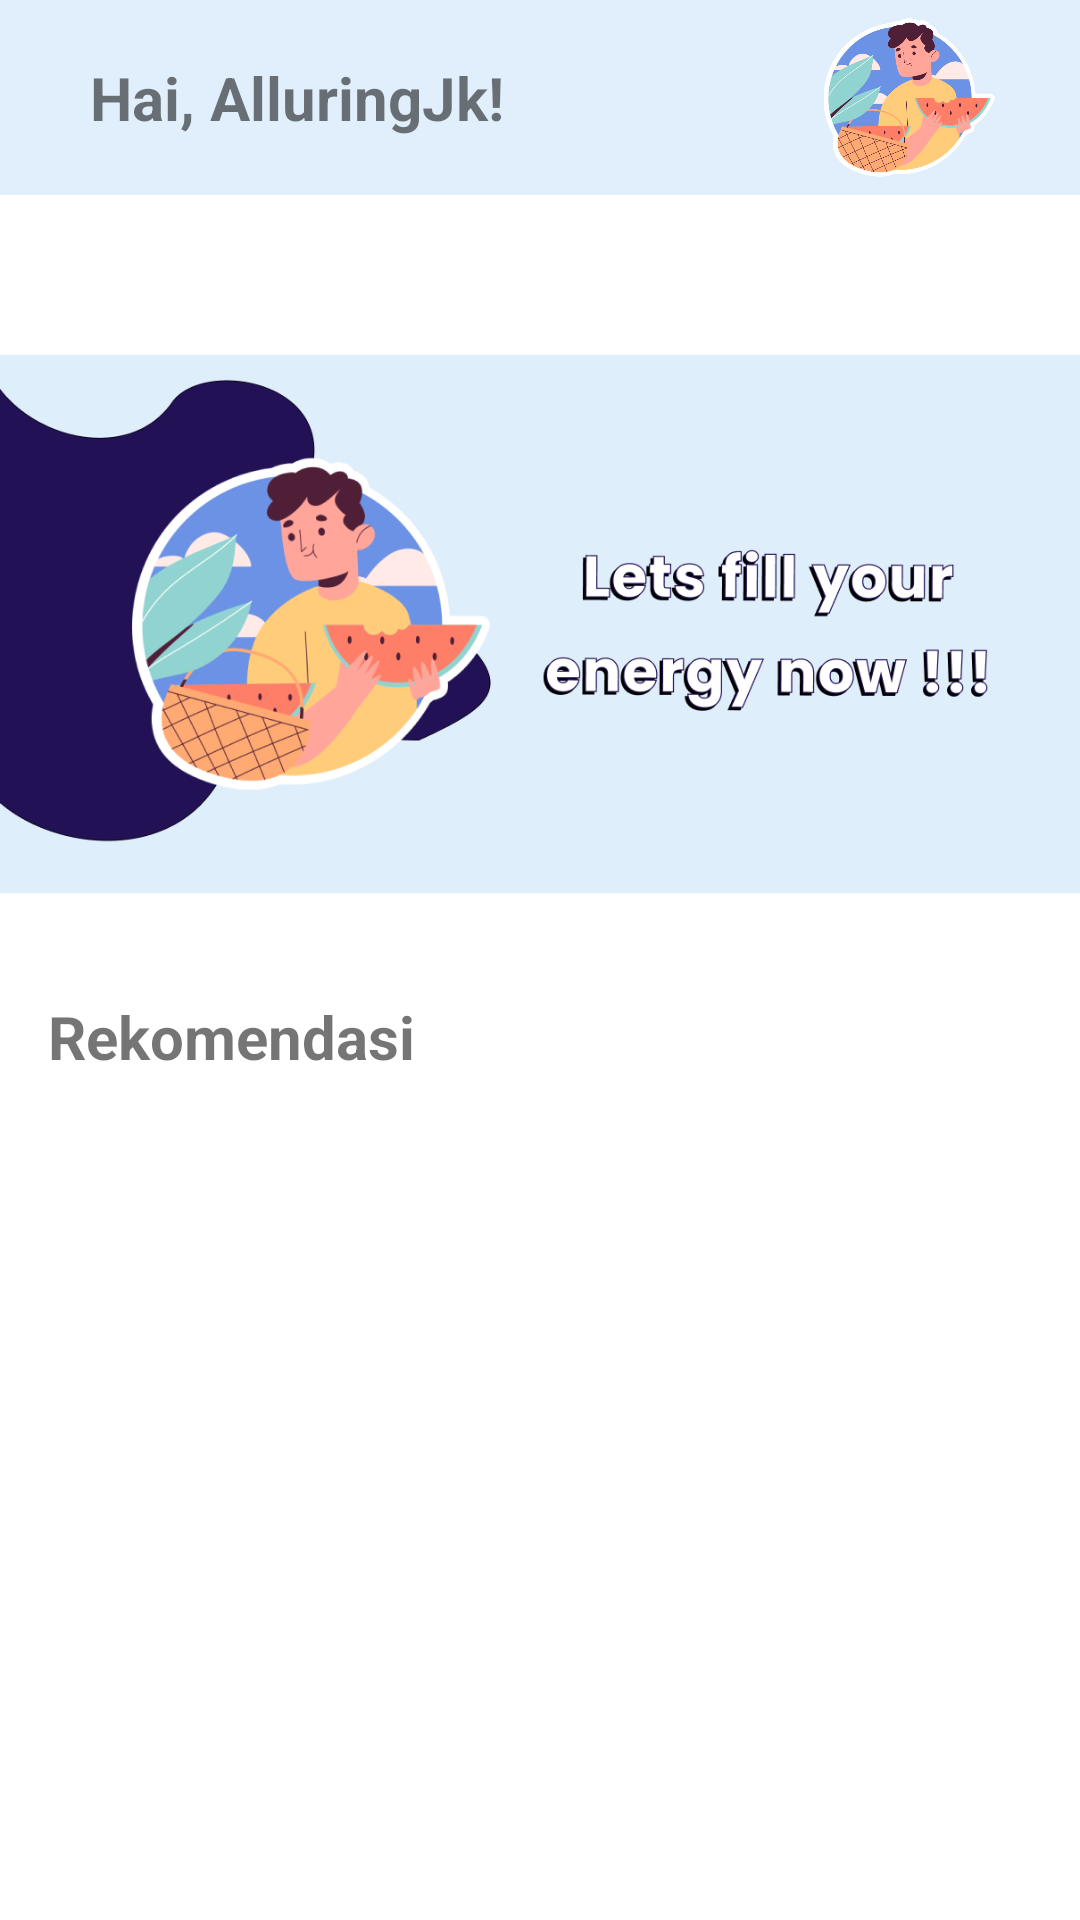

Named icons in this screenshot (1080px x 1920px) and their centers, (x,y):
eating: (909,97)
